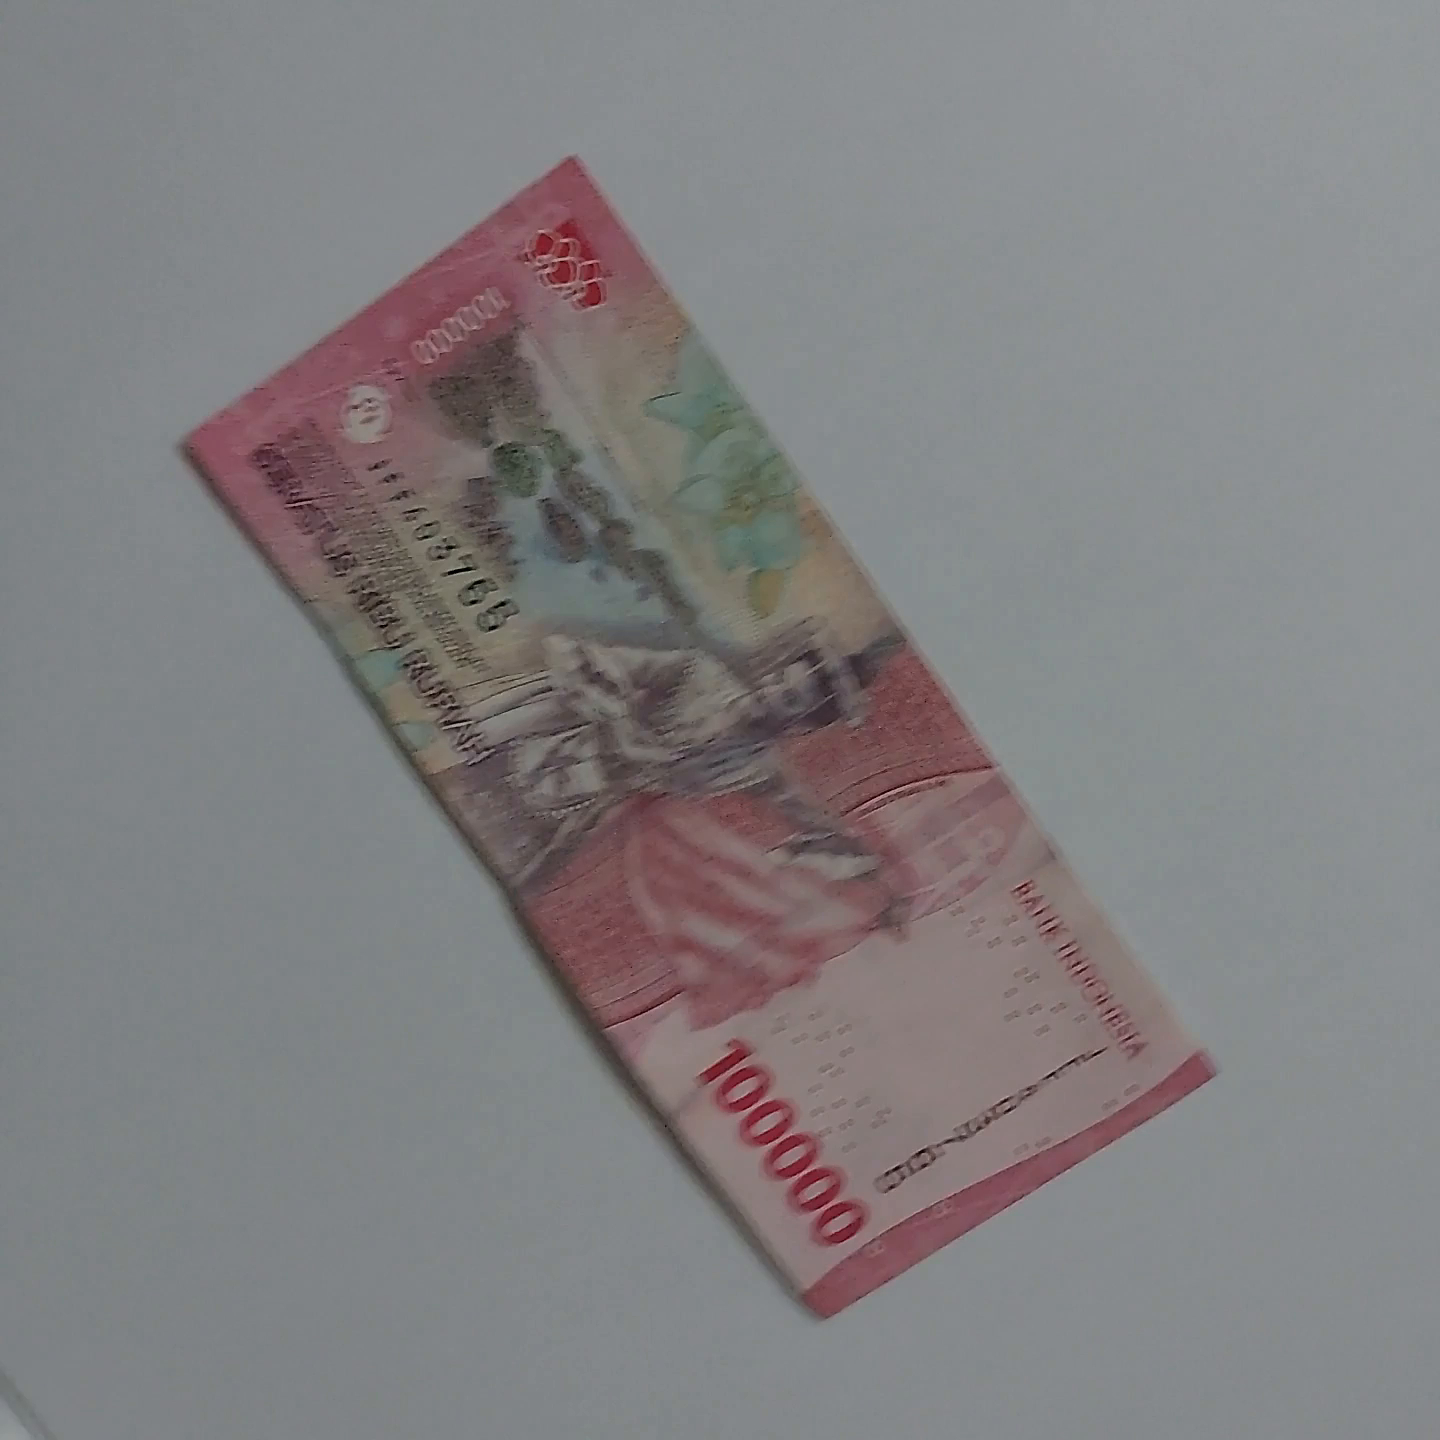100k: (178, 430, 687, 1440)
